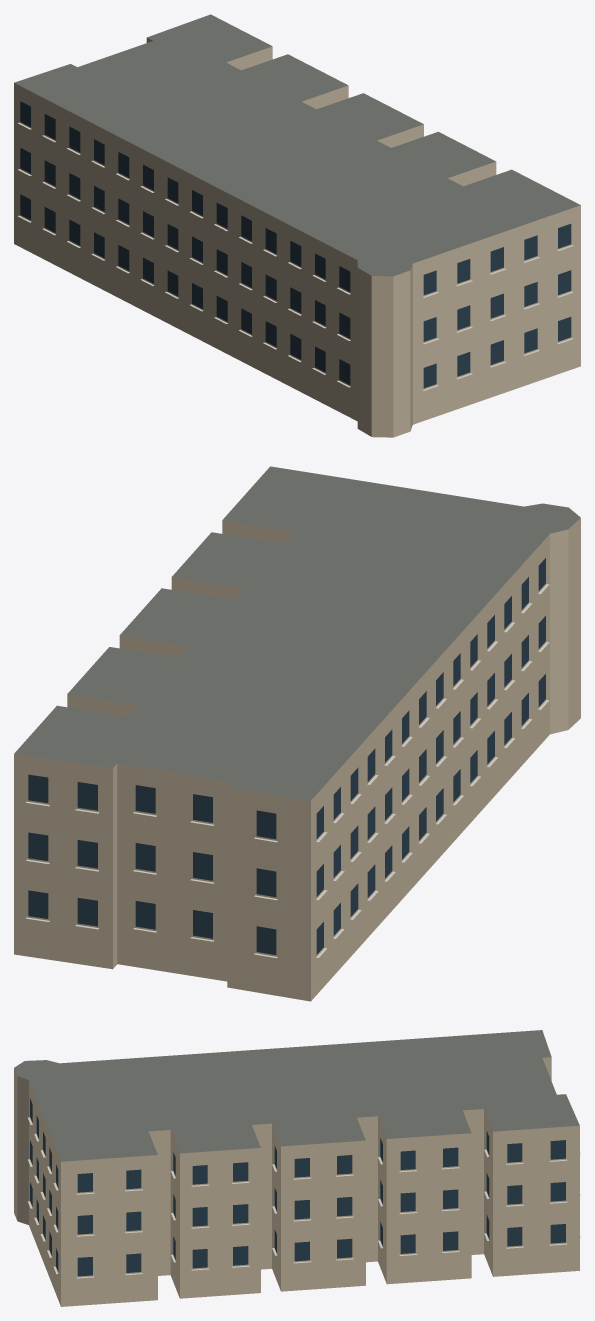
The picture shows the model from 3 angles, top to bottom: view 1: azimuth 30°, elevation 25°; view 2: azimuth 150°, elevation 25°; view 3: azimuth 270°, elevation 25°; orthographic projection. The views are drawn at different scales.
Parts seen in each view (by area): view 1: Footprint 0, Inferred window bays, Window sills; view 2: Footprint 0, Inferred window bays, Window sills; view 3: Footprint 0, Inferred window bays, Window sills.
Part boxes in pixels (<box>): Footprint 0: <box>14,14,580,437</box>; Inferred window bays: <box>20,101,571,388</box>; Window sills: <box>18,122,573,390</box>; Footprint 0: <box>14,466,580,1001</box>; Inferred window bays: <box>28,558,545,954</box>; Window sills: <box>26,584,549,958</box>; Footprint 0: <box>14,1030,579,1306</box>; Inferred window bays: <box>30,1098,565,1276</box>; Window sills: <box>28,1117,580,1278</box>.
Size of the model in its own units: 25.22 by 12.88 by 45.58.
